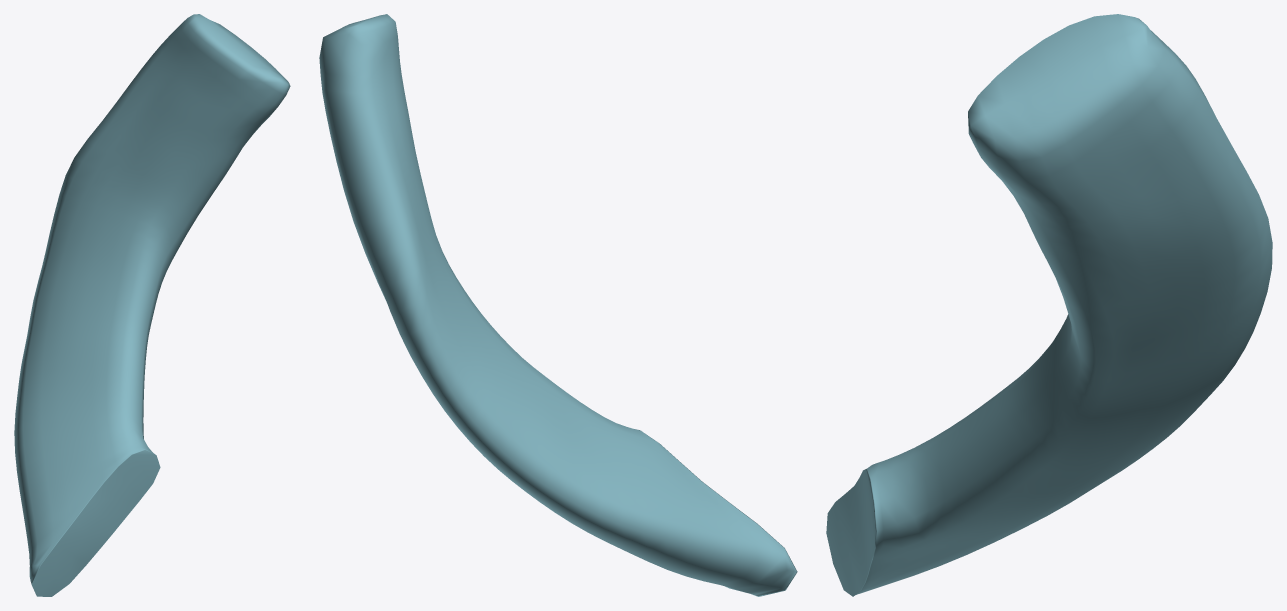
The picture shows the model from 3 angles, left to right: view 1: azimuth 30°, elevation 25°; view 2: azimuth 150°, elevation 25°; view 3: azimuth 270°, elevation 25°; orthographic projection. The views are drawn at different scales.
Parts seen in each view (by area): view 1: 左侧第十肋软骨; view 2: 左侧第十肋软骨; view 3: 左侧第十肋软骨.
Boxes of the visible parts, left/top/right/bottom form: 左侧第十肋软骨: left=14, top=14, right=290, bottom=596; 左侧第十肋软骨: left=319, top=14, right=797, bottom=596; 左侧第十肋软骨: left=826, top=14, right=1272, bottom=596.
Size of the model in its own units: 0.0694 by 0.0993 by 0.0529.
